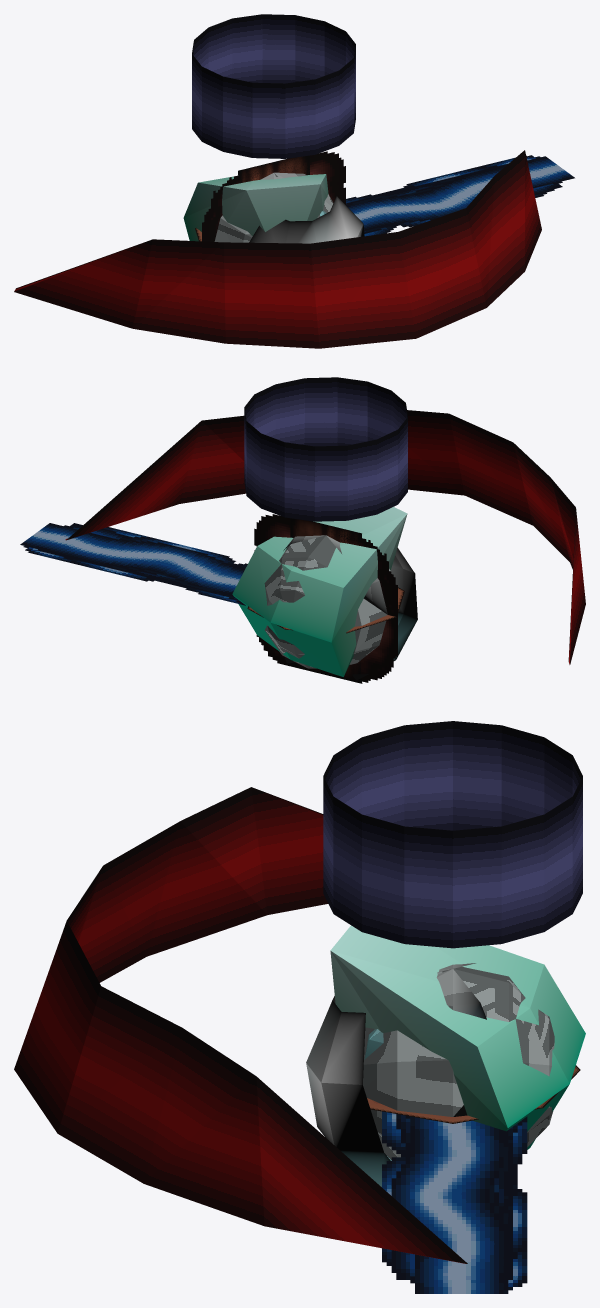
3 renders of one model, top to bottom at view 1: azimuth 30°, elevation 25°; view 2: azimuth 150°, elevation 25°; view 3: azimuth 270°, elevation 25°, orthographic. The views are drawn at different scales.
Parts seen in each view (by area): view 1: part19, part9, part18, part0, part10, part16, part15, part8, part17, part6, part1; view 2: part19, part9, part18, part0, part8, part16, part10, part15, part17, part6, part11, part1 (+2 smaller); view 3: part19, part9, part18, part0, part8, part10, part11, part6, part1, part4, part13, part3 (+1 smaller).
Boxes of the visible parts, left/top/right/bottom form: part19: left=14, top=150, right=541, bottom=348; part9: left=192, top=14, right=355, bottom=158; part18: left=183, top=174, right=328, bottom=241; part0: left=347, top=157, right=574, bottom=230; part10: left=249, top=196, right=364, bottom=243; part16: left=208, top=153, right=345, bottom=241; part15: left=238, top=155, right=309, bottom=183; part8: left=214, top=173, right=333, bottom=242; part17: left=202, top=151, right=345, bottom=241; part6: left=366, top=165, right=497, bottom=227; part1: left=364, top=176, right=562, bottom=235; part19: left=65, top=410, right=585, bottom=664; part9: left=244, top=377, right=407, bottom=521; part18: left=232, top=507, right=407, bottom=676; part0: left=22, top=523, right=244, bottom=595; part8: left=264, top=535, right=390, bottom=668; part16: left=259, top=515, right=397, bottom=682; part10: left=284, top=547, right=417, bottom=680; part15: left=290, top=518, right=362, bottom=683; part17: left=254, top=514, right=397, bottom=680; part6: left=37, top=535, right=237, bottom=590; part11: left=283, top=535, right=387, bottom=614; part1: left=64, top=523, right=245, bottom=576; part19: left=14, top=787, right=467, bottom=1263; part9: left=323, top=721, right=582, bottom=948; part18: left=330, top=925, right=585, bottom=1149; part0: left=391, top=1115, right=508, bottom=1293; part8: left=363, top=966, right=554, bottom=1159; part10: left=306, top=996, right=391, bottom=1186; part11: left=364, top=963, right=486, bottom=1116; part6: left=382, top=1154, right=527, bottom=1279; part1: left=391, top=1114, right=508, bottom=1283; part4: left=382, top=1111, right=527, bottom=1153; part13: left=367, top=1065, right=580, bottom=1123; part3: left=503, top=1130, right=512, bottom=1269.
Size of the model in its own units: 0.9395 by 0.4375 by 0.5508.
23 materials, 21 textured.
